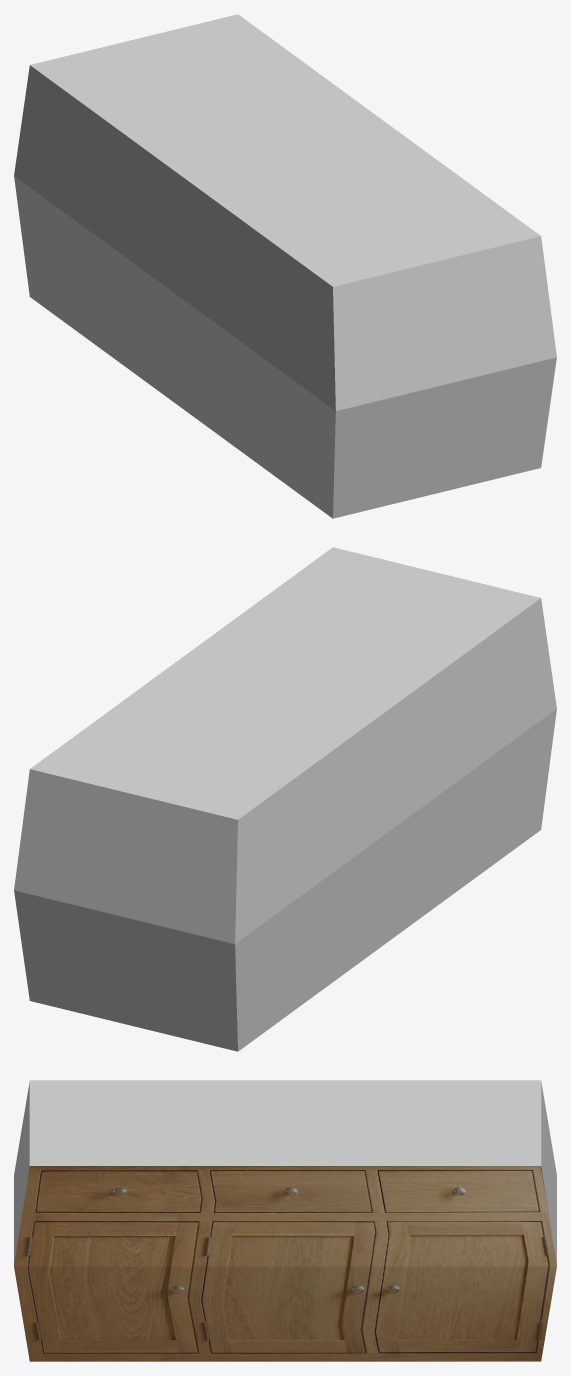
The model's file is drawer.fbx.
3 renders of one model, top to bottom at view 1: azimuth 30°, elevation 25°; view 2: azimuth 150°, elevation 25°; view 3: azimuth 270°, elevation 25°, orthographic. The views are drawn at different scales.
Visible parts, largest first — view 1: Cube; view 2: Cube; view 3: Cube.001, Cube.
Boxes of the visible parts, x1,y1,x2,y2 form: Cube: (14, 14, 556, 518); Cube: (14, 547, 556, 1051); Cube.001: (14, 1166, 556, 1361); Cube: (14, 1080, 556, 1264).
Size of the model in its own units: 212 by 213 by 535.
